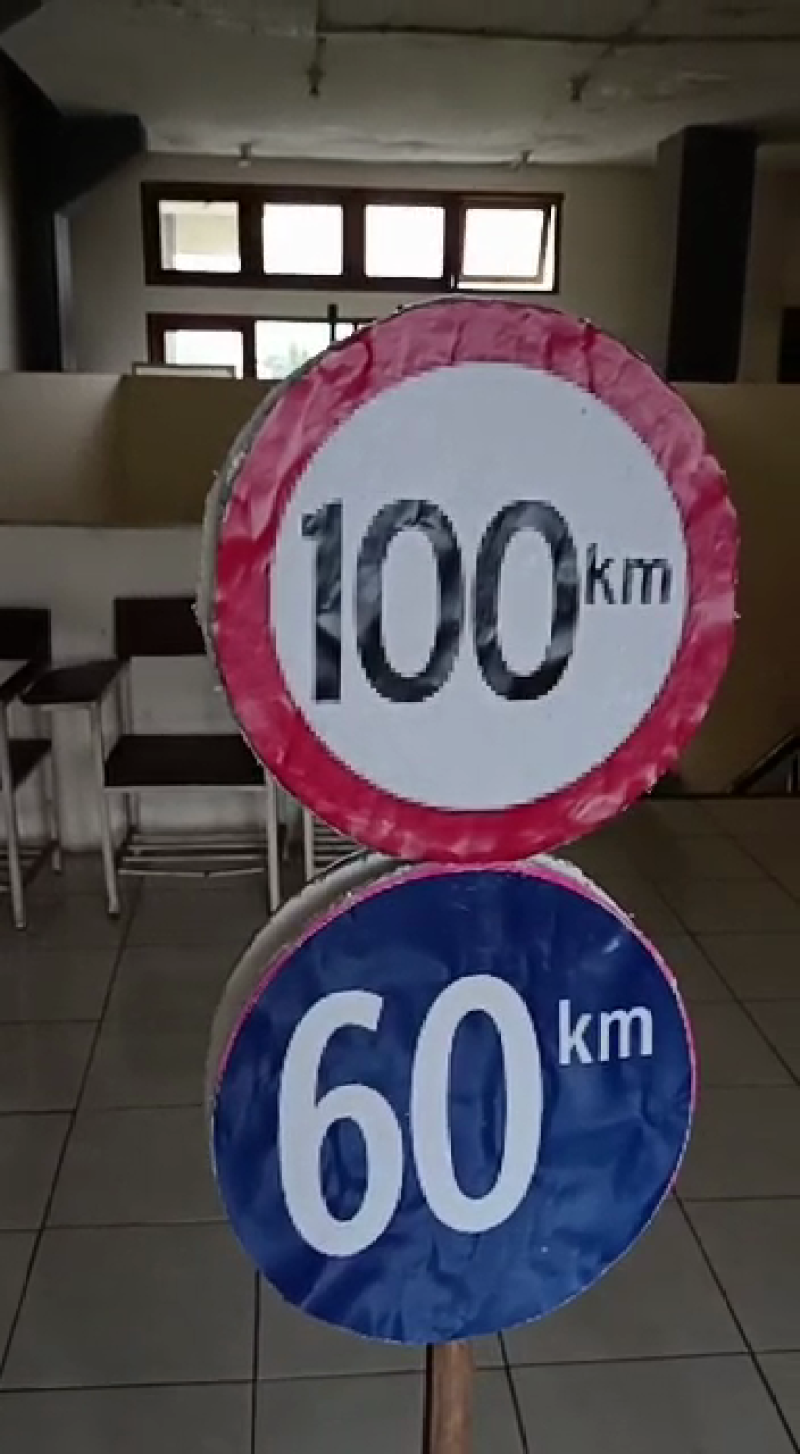batas maksimal 100kmperjam minimal 60kmperjam: (197, 289, 740, 1345)
